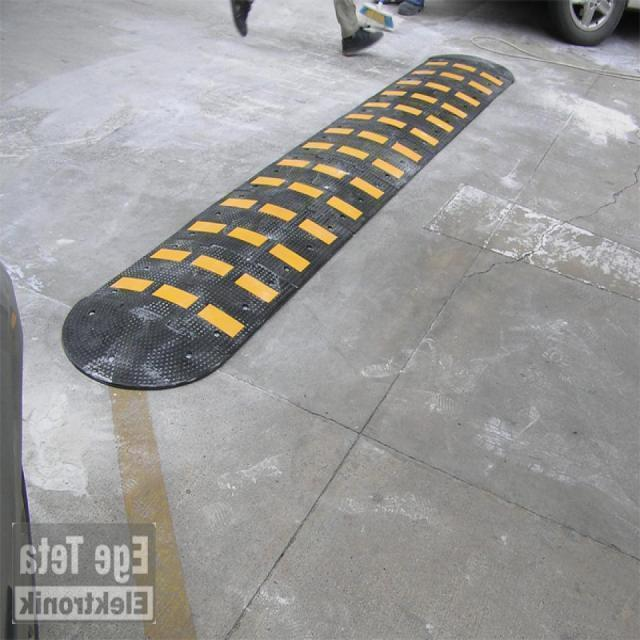Speed_Breaker: (53, 45, 521, 403), (62, 56, 510, 389)
